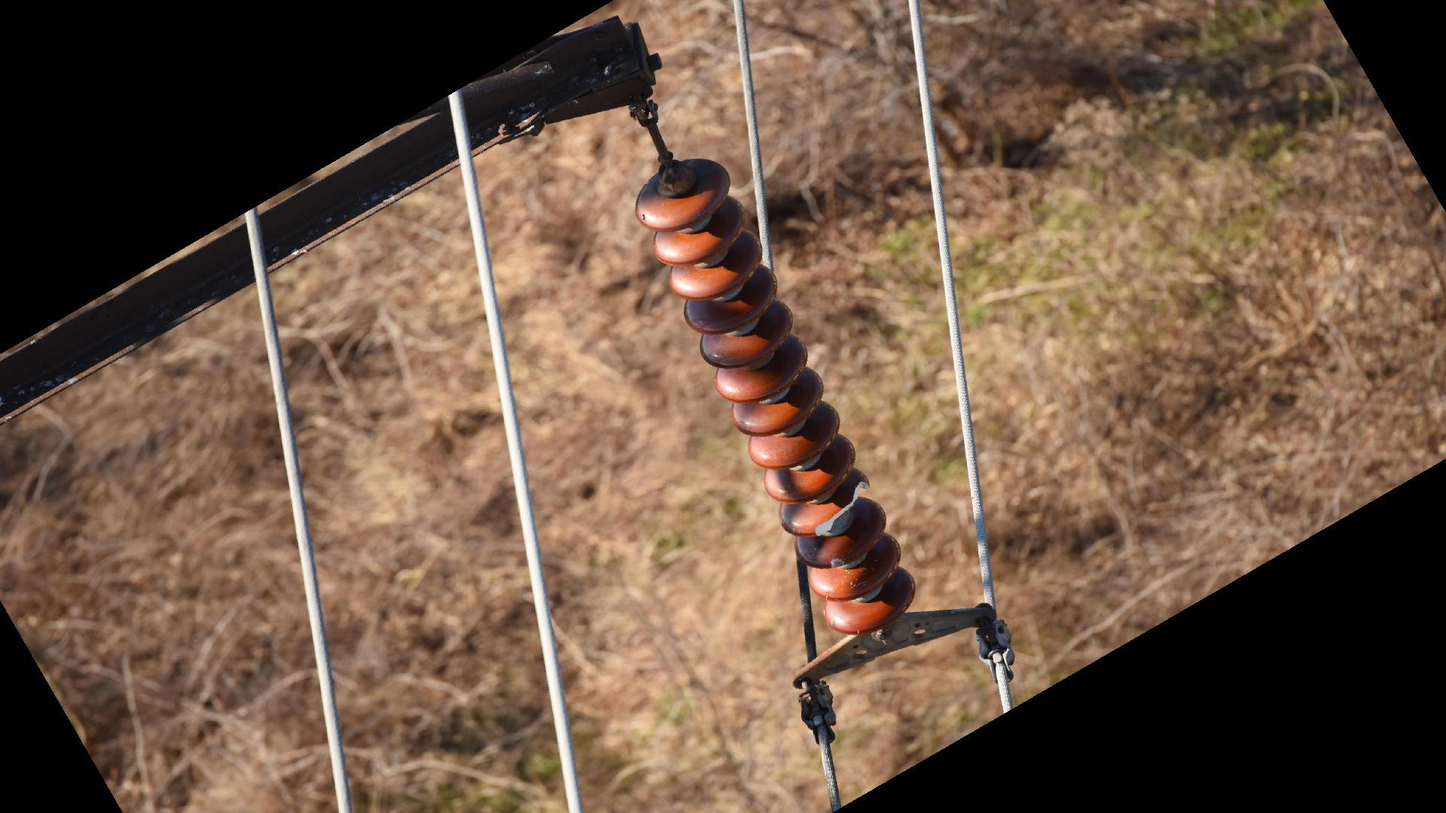insulator: (630, 154, 920, 639)
insulator_breakage: (810, 474, 873, 540)
